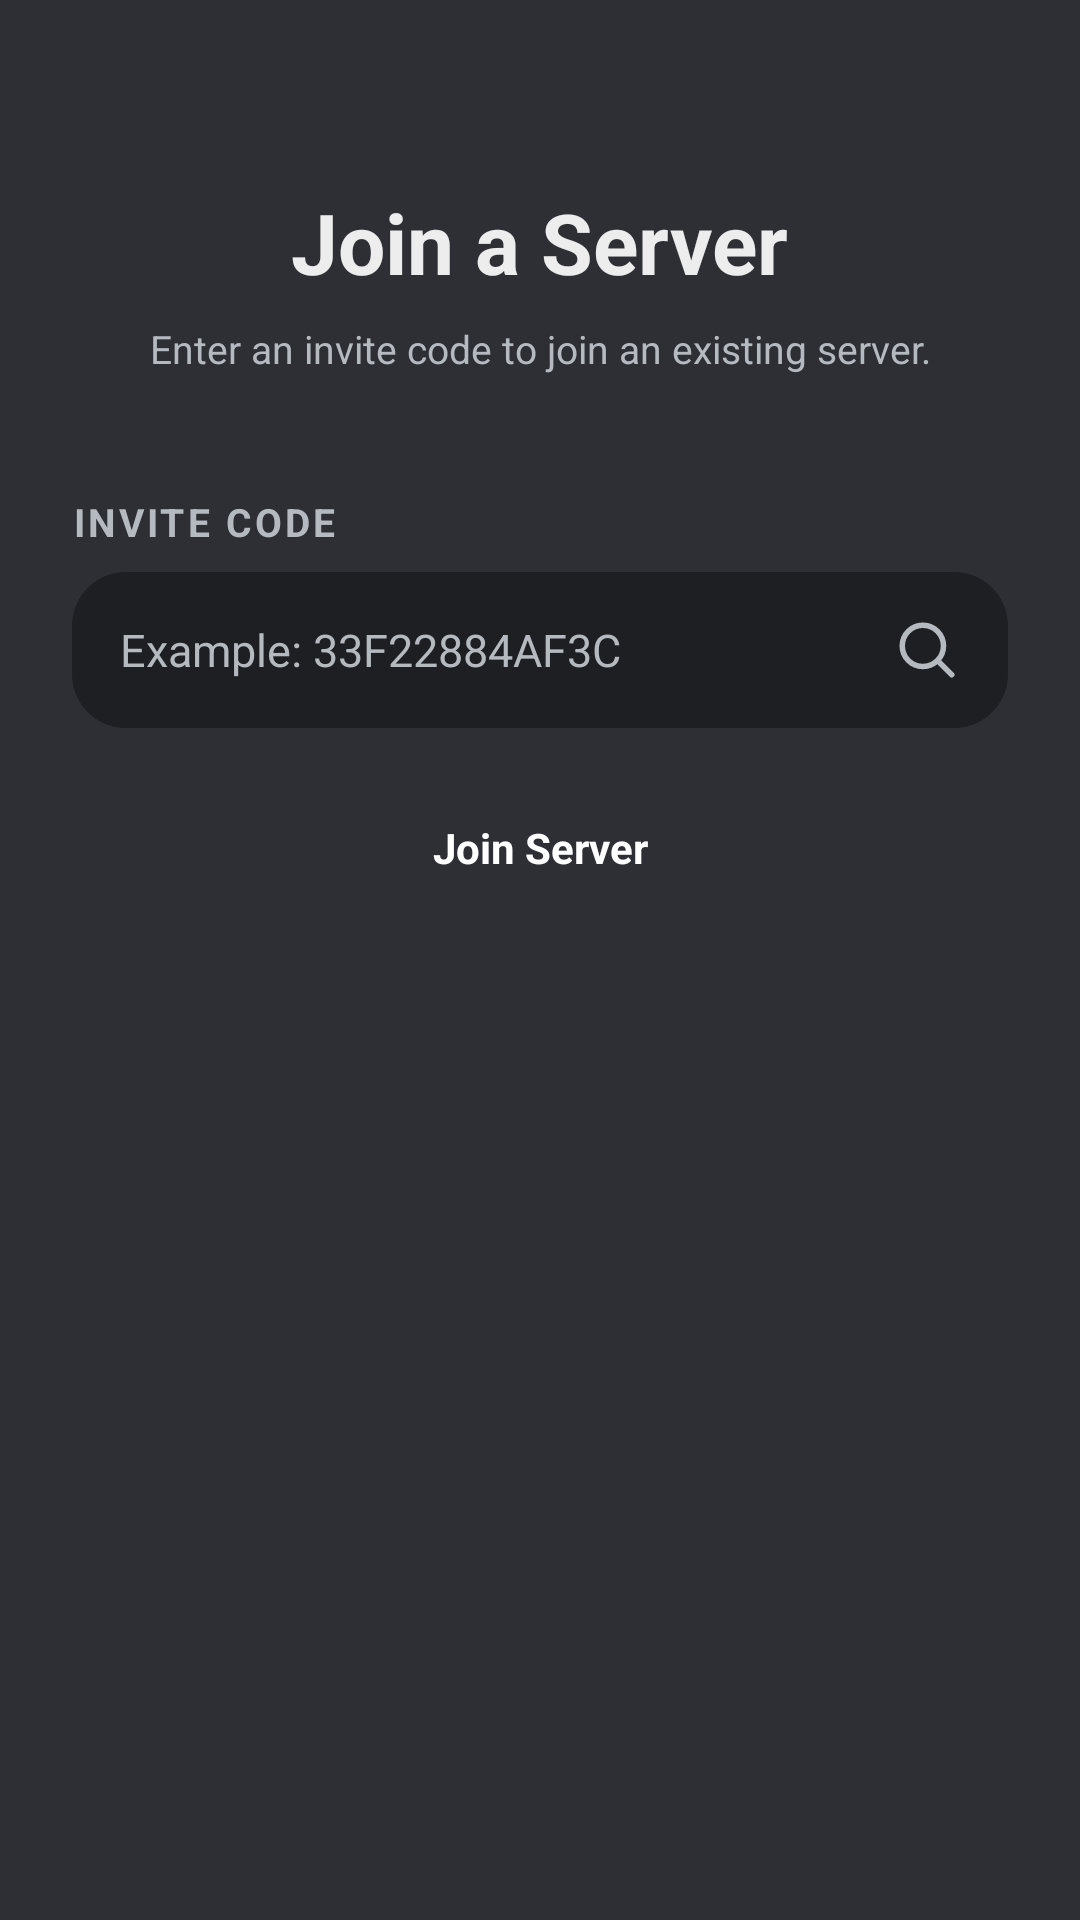

Icon bounding boxes for this 1080px x 1920px phone screenshot, format (x1, y1, x2, y2):
search: (899, 622, 955, 678)
